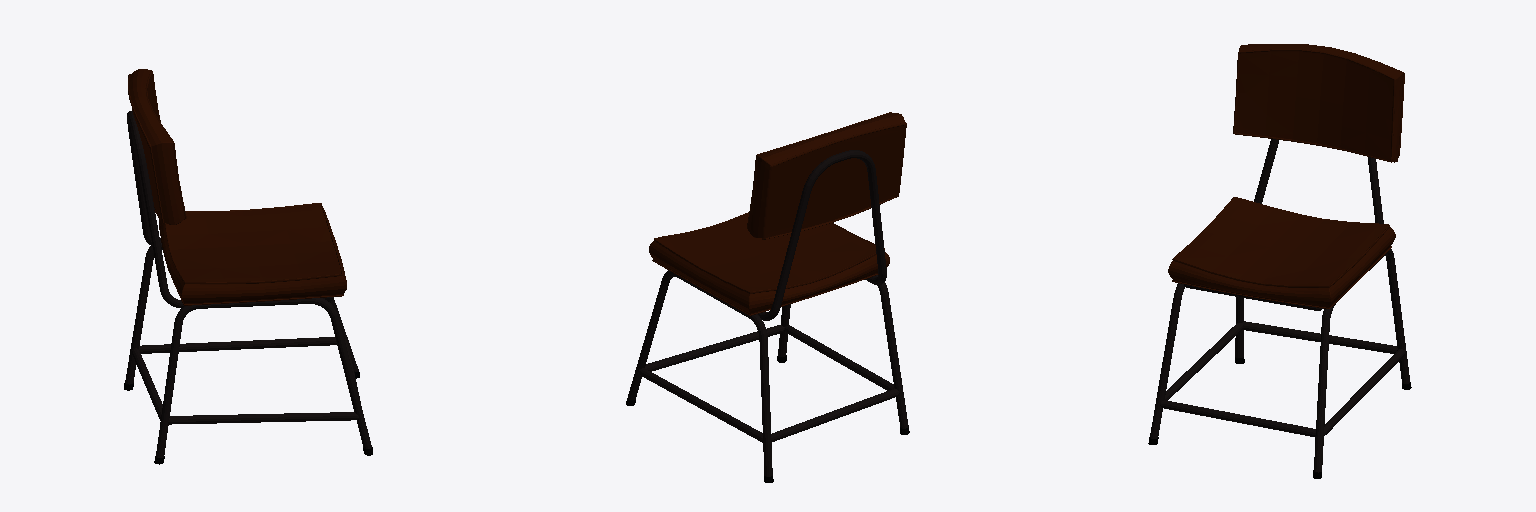
The model's file is chair2.obj.
3 renders of one model, left to right at view 1: azimuth 30°, elevation 25°; view 2: azimuth 150°, elevation 25°; view 3: azimuth 270°, elevation 25°, orthographic.
Visible parts, largest first — view 1: Plane.016, Line265.002; view 2: Plane.016, Line265.002; view 3: Plane.016, Line265.002.
Boxes of the visible parts, x1,y1,x2,y2 form: Plane.016: [128, 69, 346, 305]; Line265.002: [125, 111, 371, 457]; Plane.016: [649, 112, 906, 315]; Line265.002: [627, 150, 908, 476]; Plane.016: [1168, 44, 1404, 308]; Line265.002: [1150, 139, 1409, 472].
Size of the model in its own units: 0.7333 by 0.9354 by 0.682.